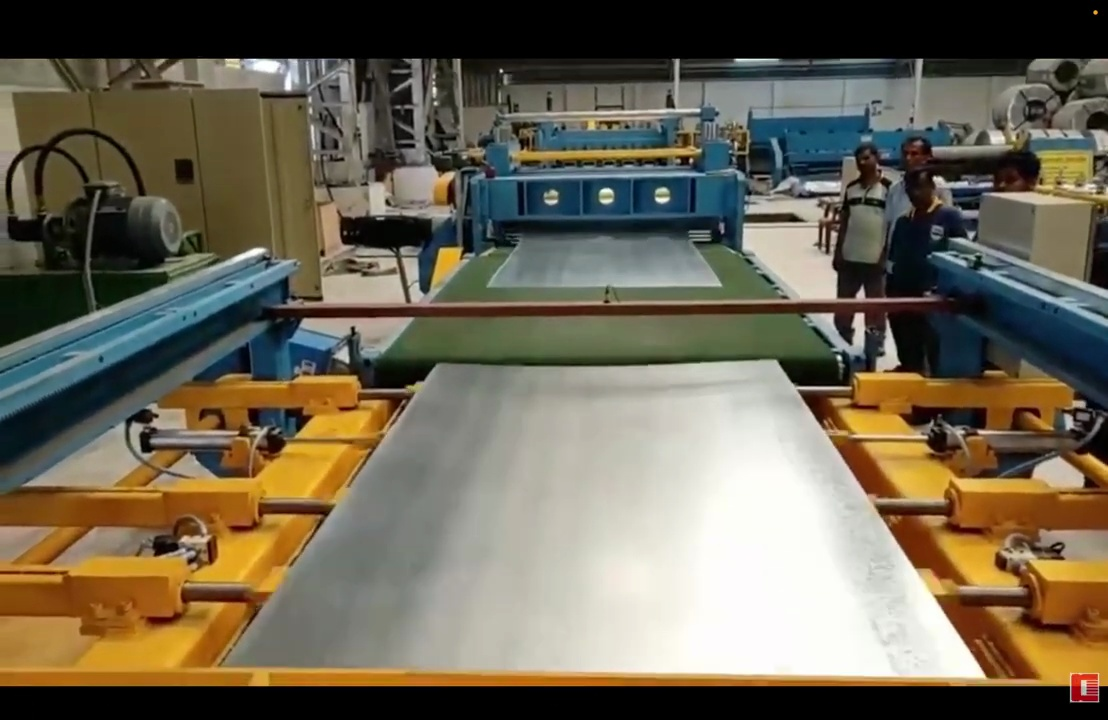steel plate: (224, 361, 981, 677), (488, 233, 720, 287)
